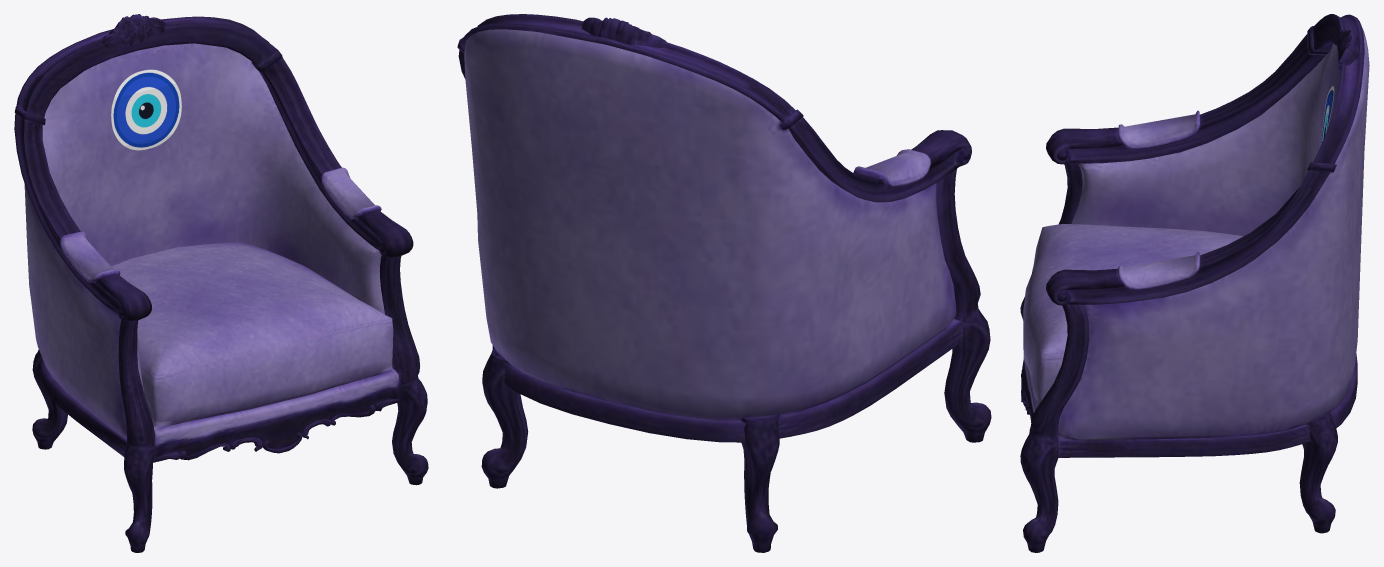
Rendered from nyb_enchanted_armchair.glb.
The picture shows the model from 3 angles, left to right: view 1: azimuth 30°, elevation 25°; view 2: azimuth 150°, elevation 25°; view 3: azimuth 270°, elevation 25°; orthographic projection. The views are drawn at different scales.
Parts seen in each view (by area): view 1: ArmChair_01, stk_nazar_die.png; view 2: ArmChair_01; view 3: ArmChair_01.
Boxes of the visible parts, bbox=[...] form: ArmChair_01: bbox=[14, 14, 428, 552]; stk_nazar_die.png: bbox=[111, 69, 181, 150]; ArmChair_01: bbox=[457, 14, 991, 552]; ArmChair_01: bbox=[1020, 14, 1369, 552].
Bounding box in the file's own units: 0.8484 × 1.07 × 0.7658.
Materials: 2 (2 with a texture image).
